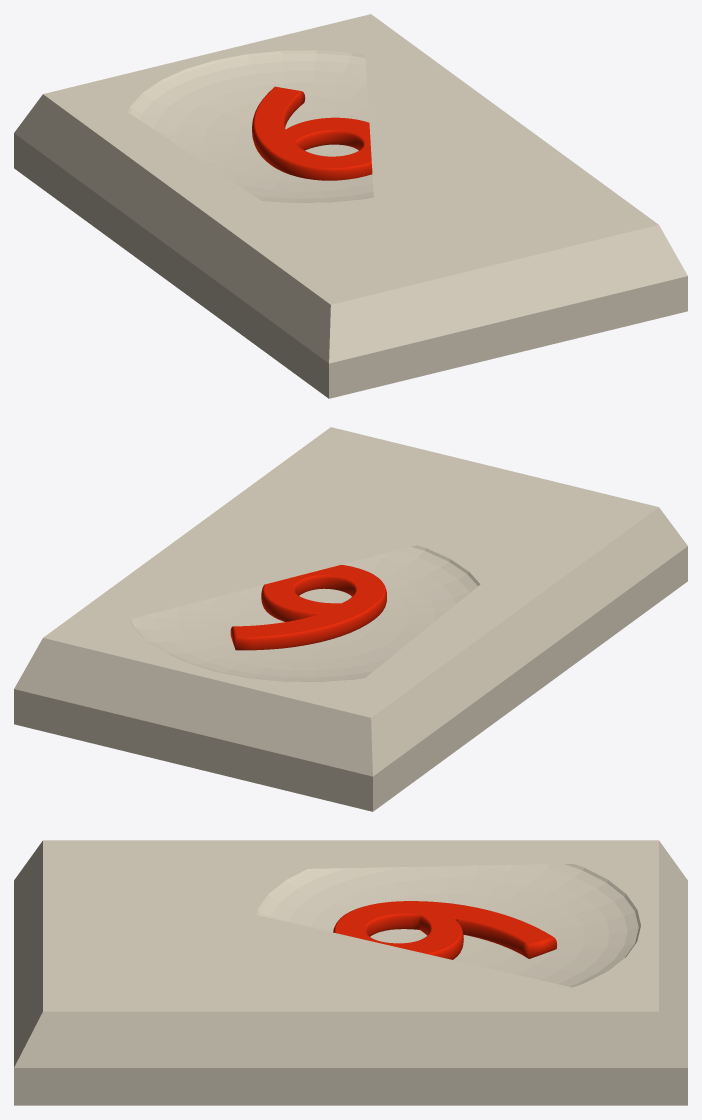
Rendered from r6_cube_tail.fbx.
3 renders of one model, top to bottom at view 1: azimuth 30°, elevation 25°; view 2: azimuth 150°, elevation 25°; view 3: azimuth 270°, elevation 25°, orthographic. The views are drawn at different scales.
Visible parts, largest first — view 1: 큐브, 숫자; view 2: 큐브, 숫자; view 3: 큐브, 숫자.
Part boxes in pixels (x1,y1,x2,y2): 큐브: [14, 14, 687, 398]; 숫자: [252, 86, 372, 180]; 큐브: [14, 427, 687, 811]; 숫자: [230, 564, 386, 650]; 큐브: [14, 840, 687, 1105]; 숫자: [333, 901, 556, 959].
Bounding box in the file's own units: 500 × 107 × 760.
